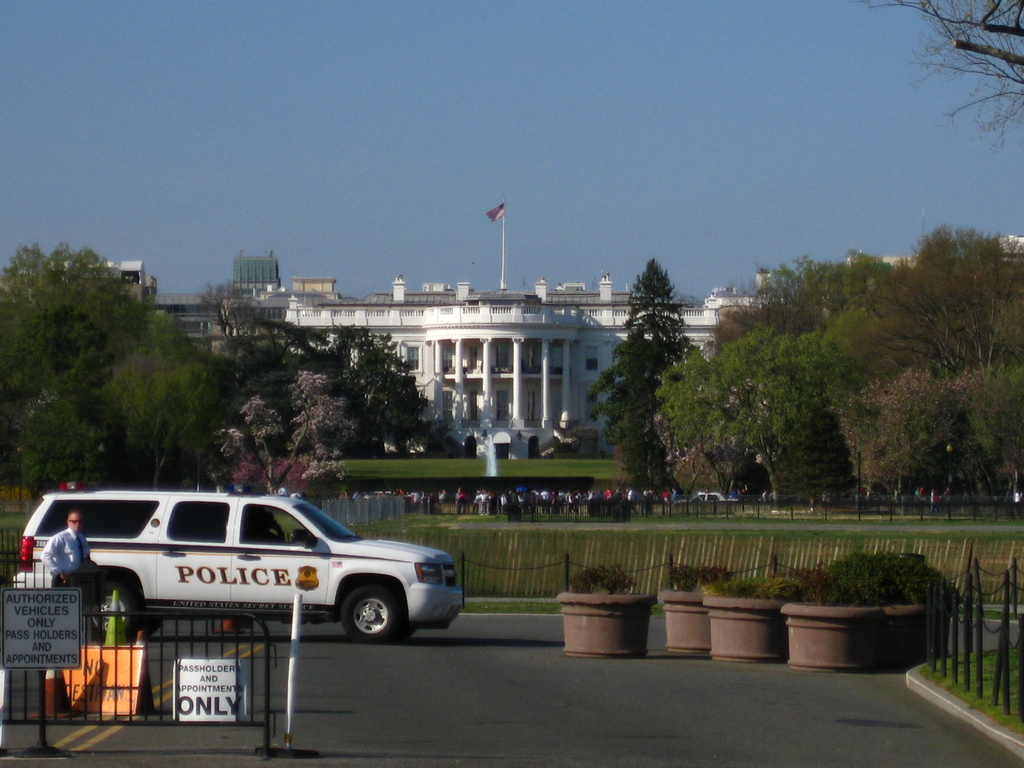Car: (12, 487, 473, 674), (679, 489, 735, 505)
